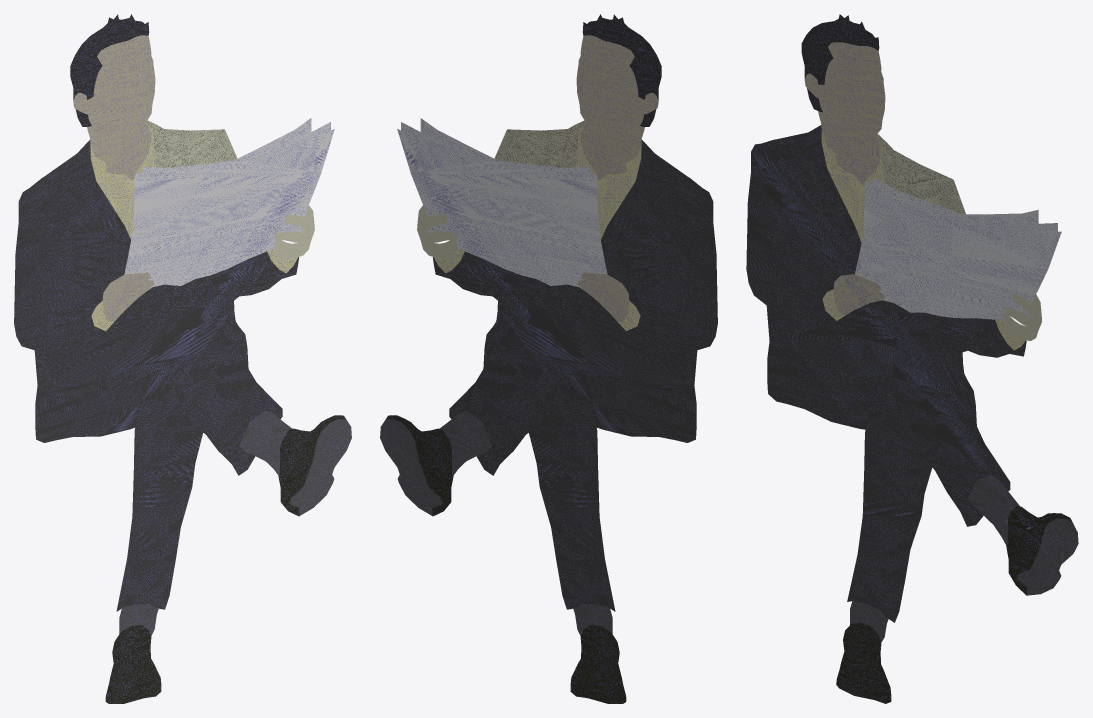
3 renders of one model, left to right at view 1: azimuth 30°, elevation 25°; view 2: azimuth 150°, elevation 25°; view 3: azimuth 330°, elevation 25°, orthographic.
Visible parts, largest first — view 1: SketchUp (×13); view 2: SketchUp (×13); view 3: SketchUp (×13).
Boxes of the visible parts, bbox=[...] form: SketchUp (×13): bbox=[14, 14, 351, 703]; SketchUp (×13): bbox=[380, 14, 717, 703]; SketchUp (×13): bbox=[746, 14, 1078, 703].
Bounding box in the file's own units: 30.78 × 9.1e-13 × 60.19.
